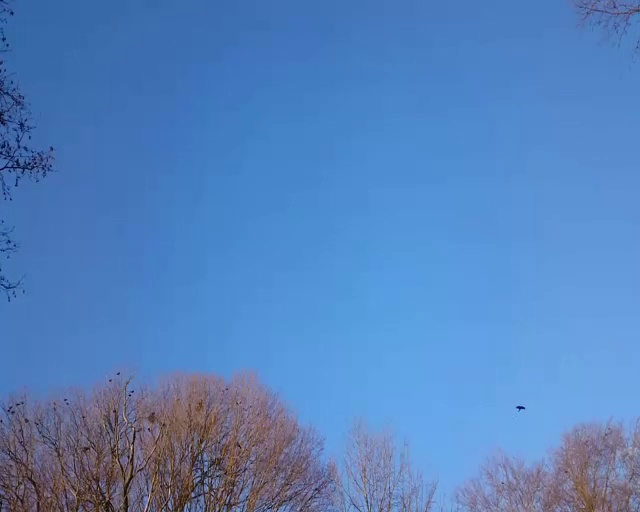BIRD: (515, 404, 526, 413)
